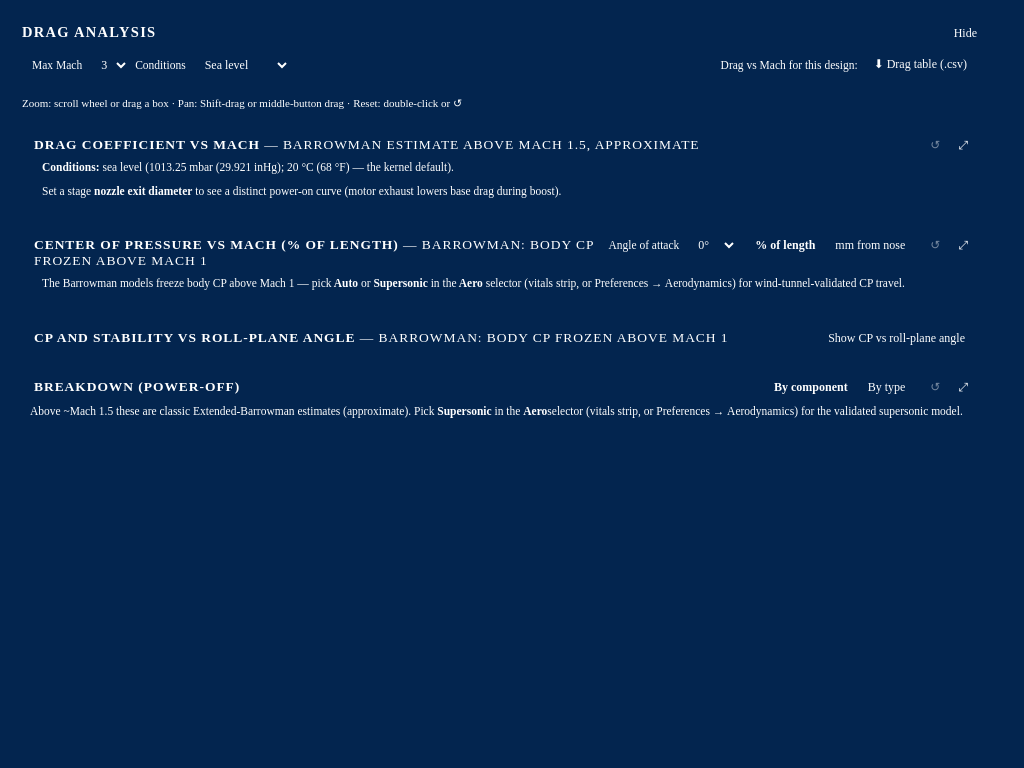
Test: N022 reports a failed roll-plane query into an alert region that was there, empty, with the charts
Click the button "Show CP vs roll-plane angle" at [897, 338], box x1=818 y1=326 x2=975 y2=350
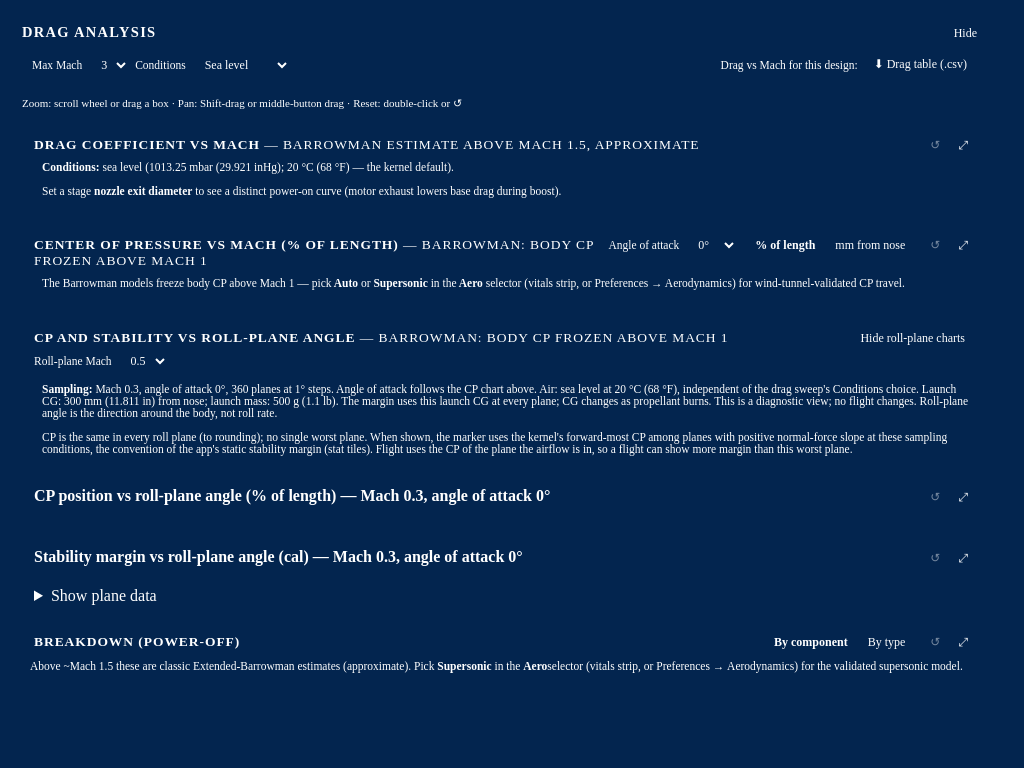
Select "0.5" in the dropdown labelled "Roll-plane Mach" at [144, 360], box x1=121 y1=350 x2=168 y2=372
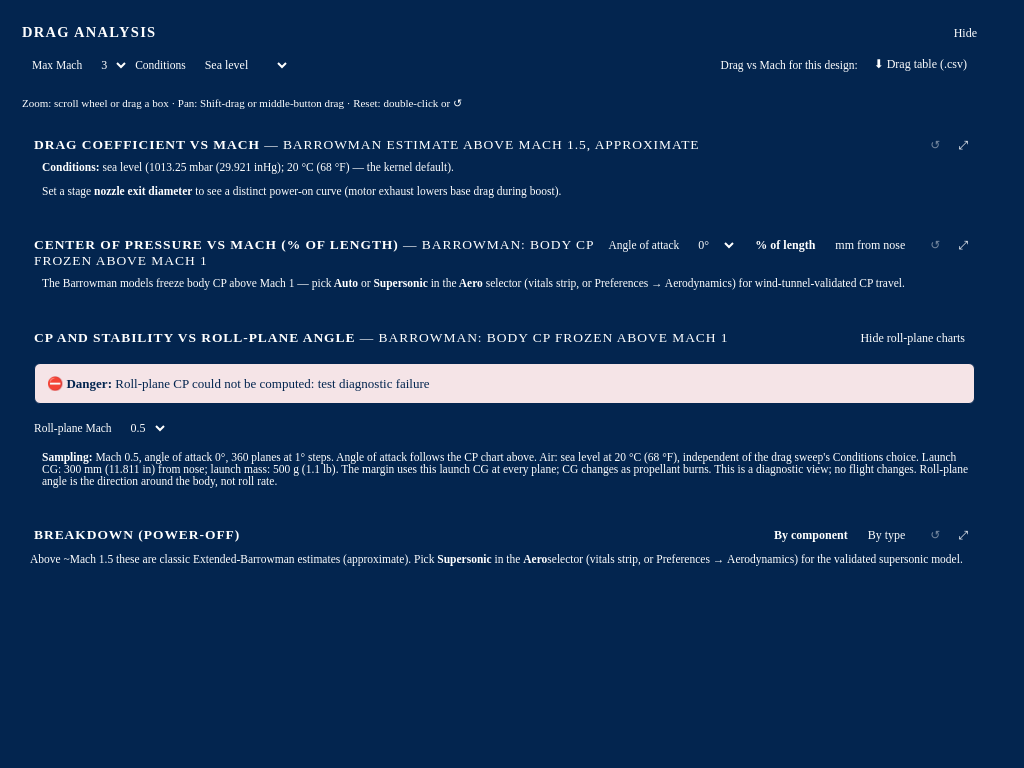
Check: the message with class "roll-plane-alert" reads "⛔ Danger: Roll-plane CP could not be computed: test diagnostic failure", box x1=34 y1=362 x2=975 y2=404
Check: the heading with class "roll-plane-panel" no longer shows "CP position vs roll-plane angle"
